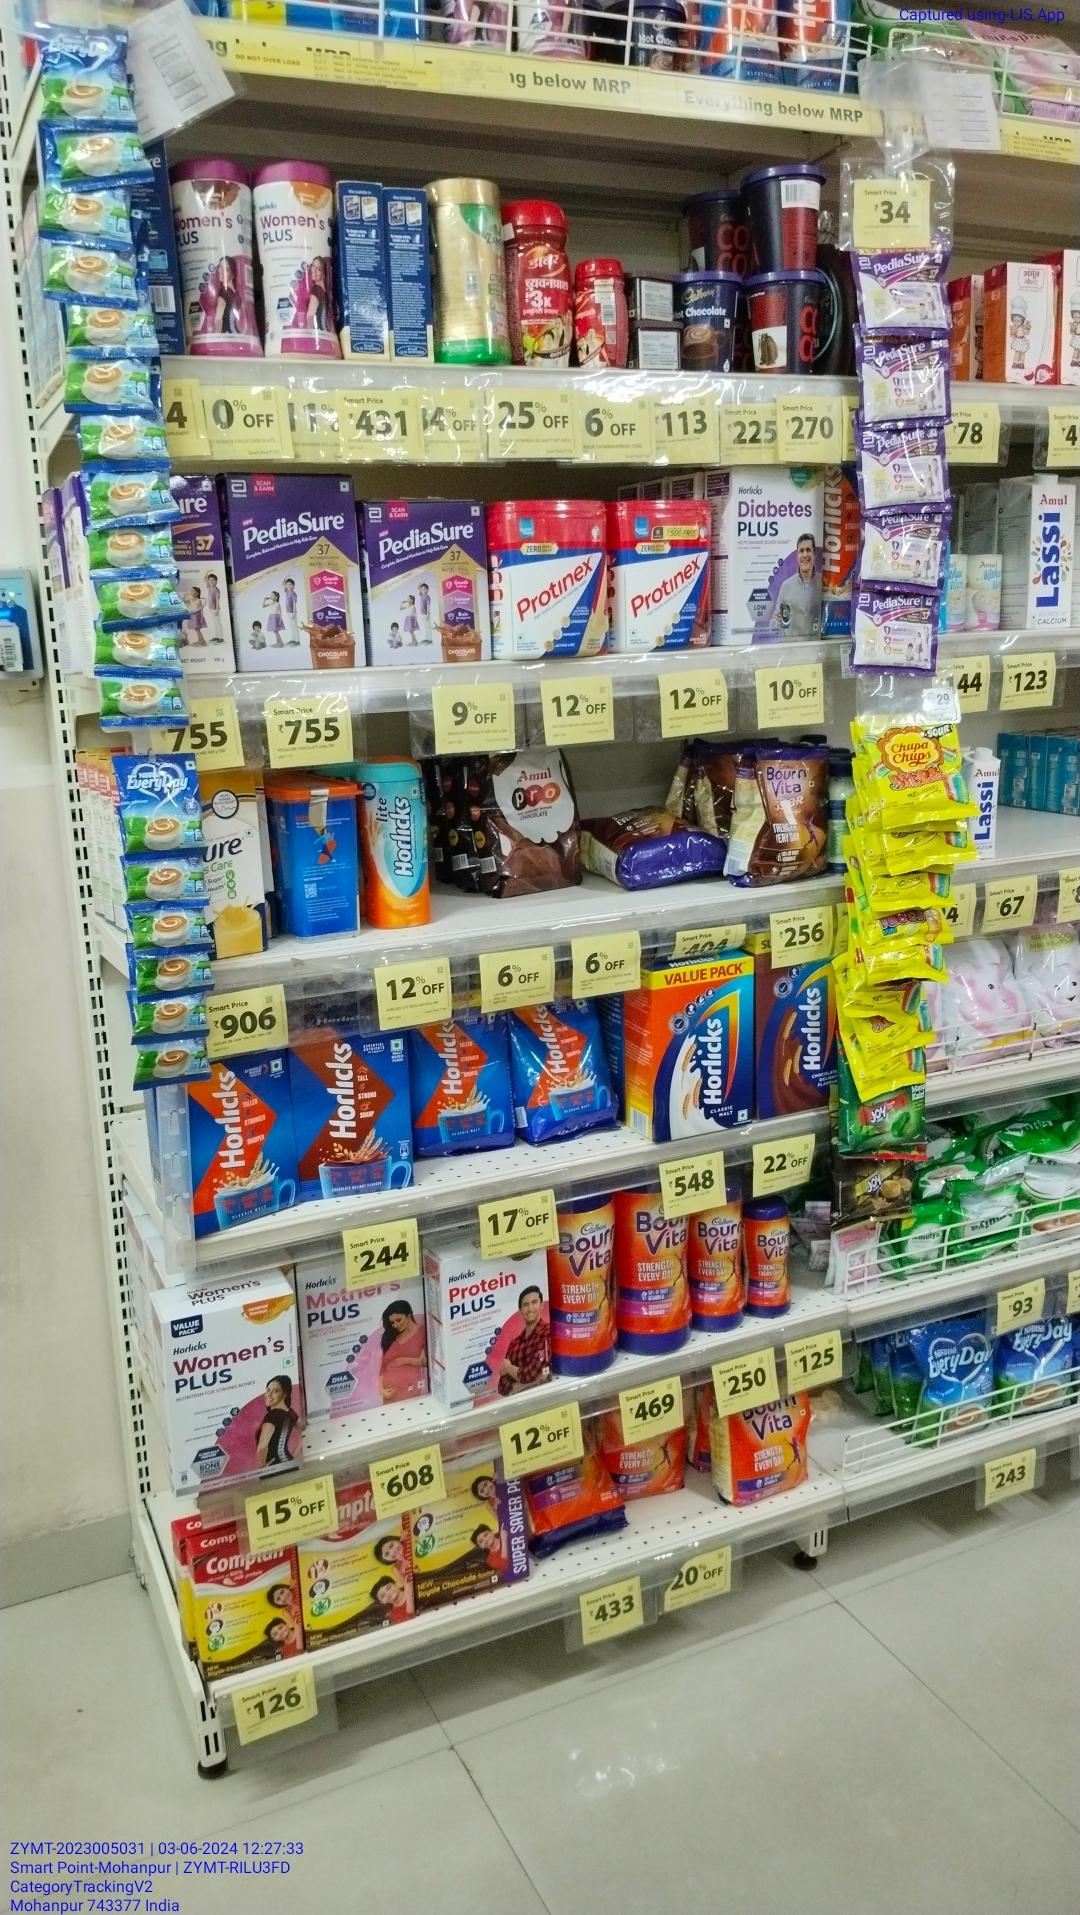BOURN_VITA_1_KG_JAR: (554, 1198, 616, 1381), (624, 1190, 692, 1352)
BOURN_VITA_200_G_JAR: (750, 1202, 795, 1317)
BOURN_VITA_500_G_JAR: (697, 1180, 741, 1332)
HORLICKS_LITE_REGULAR_MALT_500_GM_JAR: (360, 756, 429, 929)
PEDIASURE_CHOCOLATE_500_G_PACK: (368, 501, 491, 662)
PROTINEX_CHOCOLATE_400_G_JAR: (616, 500, 713, 651)
PROTINEX_VANILLA_400_G_JAR: (499, 500, 606, 655)
